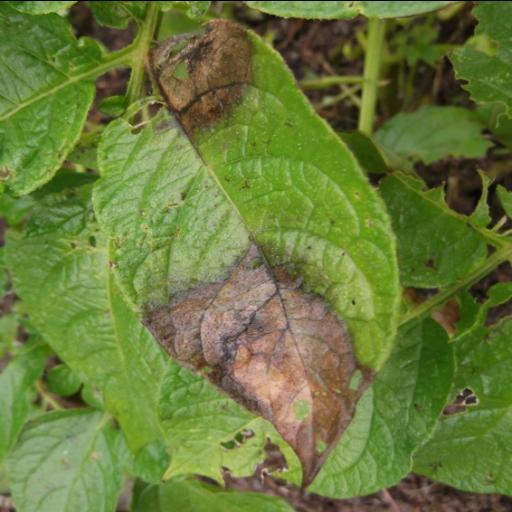disease_tomato: (92, 16, 406, 486)
